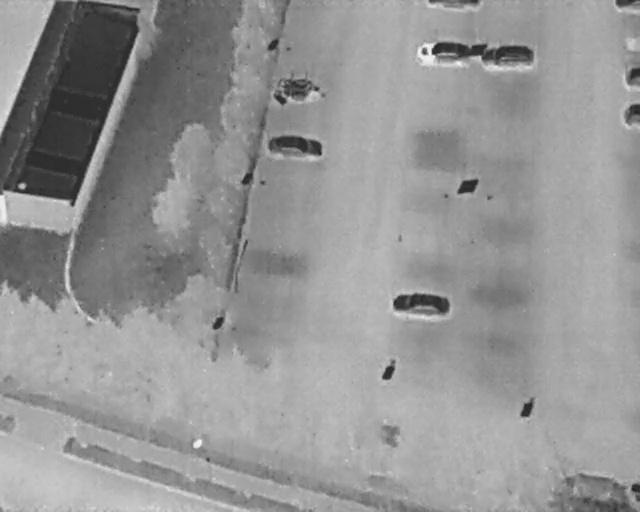Car: (550, 474, 640, 511), (391, 293, 451, 319), (268, 135, 323, 161), (274, 78, 325, 105), (416, 40, 471, 64), (482, 45, 534, 70), (624, 65, 640, 89), (625, 102, 640, 126)
